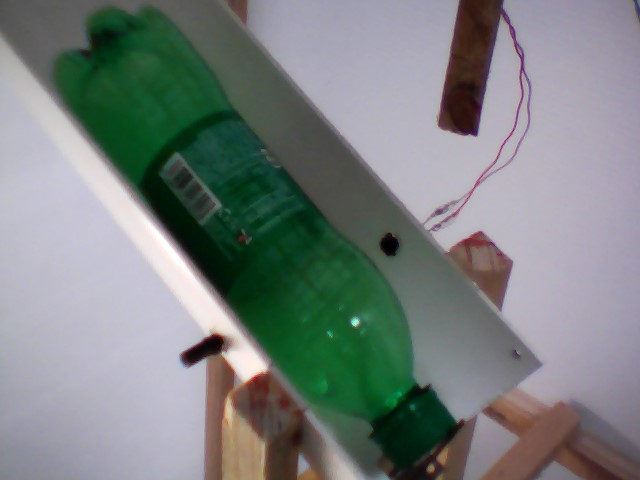plastico: (37, 5, 466, 470)
